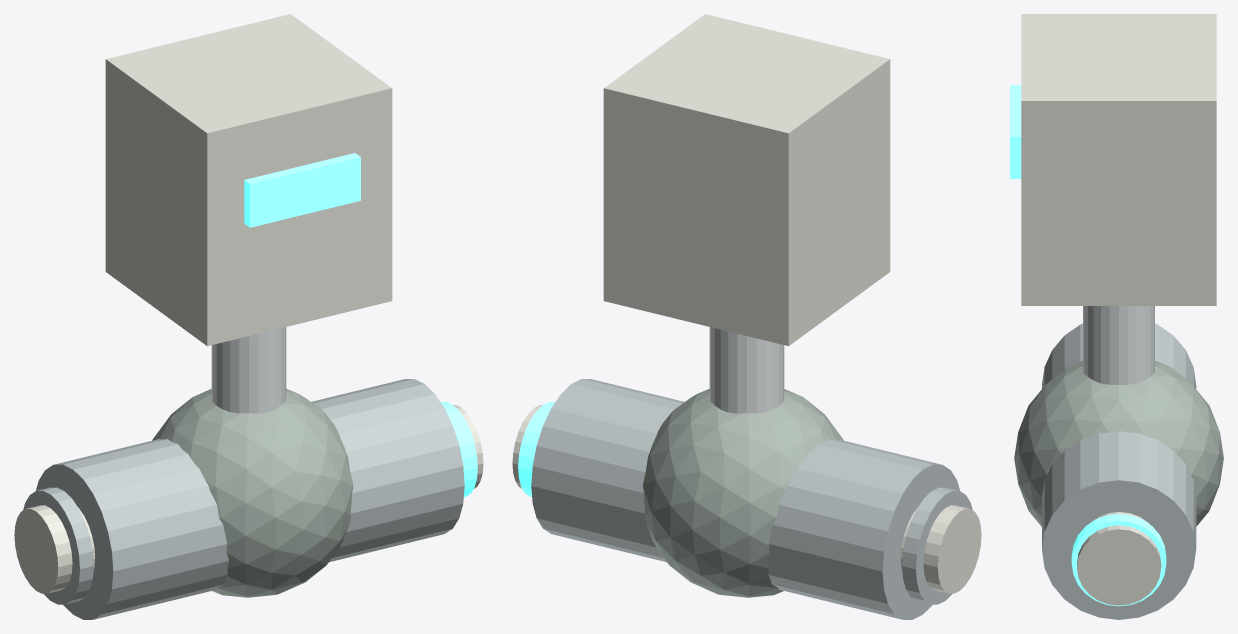
Rendered from s7-i04-electric.glb.
The picture shows the model from 3 angles, left to right: view 1: azimuth 30°, elevation 25°; view 2: azimuth 150°, elevation 25°; view 3: azimuth 270°, elevation 25°; orthographic projection. The views are drawn at different scales.
Parts seen in each view (by area): view 1: 009_electrically_actuated_motor, 000_valve_pressure_body, 007_valve_rotor, 010_motor_live_status, 008_valve_vertical_spindle, 001_valve_side_sealing_socket, 003_valve_side_locking_collar, 005_valve_side_cyan_snap_seal; view 2: 009_electrically_actuated_motor, 000_valve_pressure_body, 007_valve_rotor, 008_valve_vertical_spindle, 001_valve_side_sealing_socket, 003_valve_side_locking_collar, 005_valve_side_cyan_snap_seal; view 3: 009_electrically_actuated_motor, 000_valve_pressure_body, 007_valve_rotor, 004_valve_side_sealing_socket, 008_valve_vertical_spindle, 005_valve_side_cyan_snap_seal, 010_motor_live_status.
Boxes of the visible parts, x1,y1,x2,y2 form: 009_electrically_actuated_motor: [105, 14, 392, 346]; 000_valve_pressure_body: [36, 379, 464, 619]; 007_valve_rotor: [152, 389, 353, 597]; 010_motor_live_status: [244, 153, 360, 227]; 008_valve_vertical_spindle: [211, 327, 286, 413]; 001_valve_side_sealing_socket: [14, 505, 95, 593]; 003_valve_side_locking_collar: [23, 487, 93, 604]; 005_valve_side_cyan_snap_seal: [440, 402, 477, 497]; 009_electrically_actuated_motor: [603, 14, 890, 346]; 000_valve_pressure_body: [531, 379, 959, 619]; 007_valve_rotor: [642, 389, 843, 597]; 008_valve_vertical_spindle: [709, 327, 784, 413]; 001_valve_side_sealing_socket: [900, 505, 981, 593]; 003_valve_side_locking_collar: [902, 487, 972, 604]; 005_valve_side_cyan_snap_seal: [518, 402, 555, 497]; 009_electrically_actuated_motor: [1021, 14, 1216, 305]; 000_valve_pressure_body: [1042, 323, 1196, 619]; 007_valve_rotor: [1014, 361, 1223, 526]; 004_valve_side_sealing_socket: [1077, 512, 1161, 605]; 008_valve_vertical_spindle: [1083, 306, 1154, 384]; 005_valve_side_cyan_snap_seal: [1071, 513, 1166, 606]; 010_motor_live_status: [1010, 85, 1021, 178].
Bounding box in the file's own units: 0.46 × 0.532 × 0.208.
